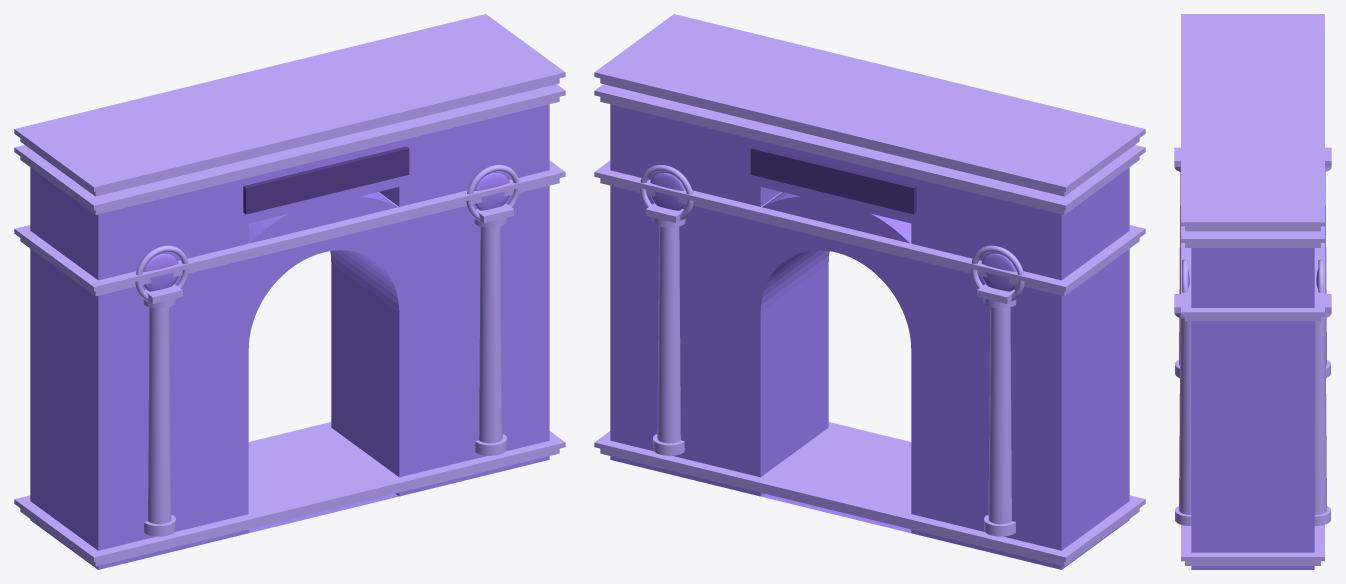
File: peyrou_violet_light.glb
3 views of the same model, side by side, from view 1: azimuth 30°, elevation 25°; view 2: azimuth 150°, elevation 25°; view 3: azimuth 270°, elevation 25° (orthographic). The views are drawn at different scales.
Visible parts, largest first — view 1: Violet stone, Lavender carved stone, Violet slate; view 2: Violet stone, Lavender carved stone, Violet slate; view 3: Lavender carved stone, Violet stone.
Part boxes in pixels (<box>): Violet stone: <box>30,104,549,569</box>; Lavender carved stone: <box>14,14,565,566</box>; Violet slate: <box>243,146,409,214</box>; Violet stone: <box>610,104,1129,569</box>; Lavender carved stone: <box>594,14,1145,566</box>; Violet slate: <box>750,146,916,214</box>; Lavender carved stone: <box>1174,14,1331,565</box>; Violet stone: <box>1187,248,1318,569</box>.
Bounding box in the file's own units: 19.02 × 15 × 6.07.
